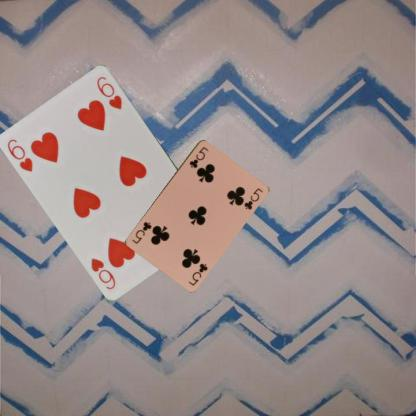5c: (186, 144, 209, 169), (186, 260, 208, 286)
6h: (5, 136, 34, 174)
